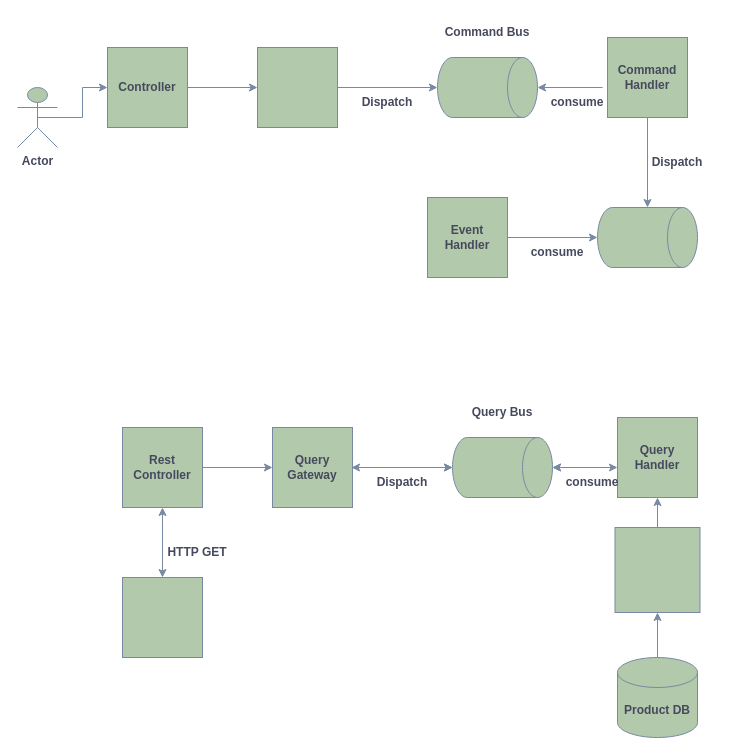
This 745x755 diagram has some shape labels left out. Here are the shapes that lost their labels. From the top down, the box of each, then its label:
(256, 46, 338, 128): Command Gateway
(596, 206, 698, 268): Event Store
(614, 526, 700, 612): JPA Repository
(122, 576, 202, 658): HTTP Client
